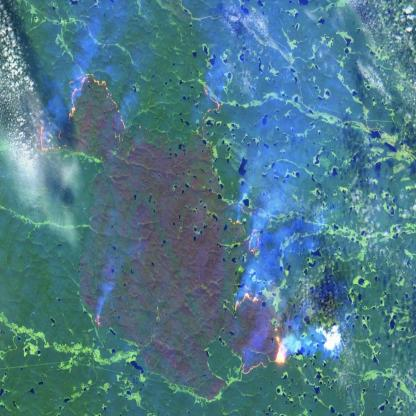fire: (36, 66, 132, 167), (229, 288, 294, 378), (200, 82, 223, 123), (241, 226, 266, 262)
